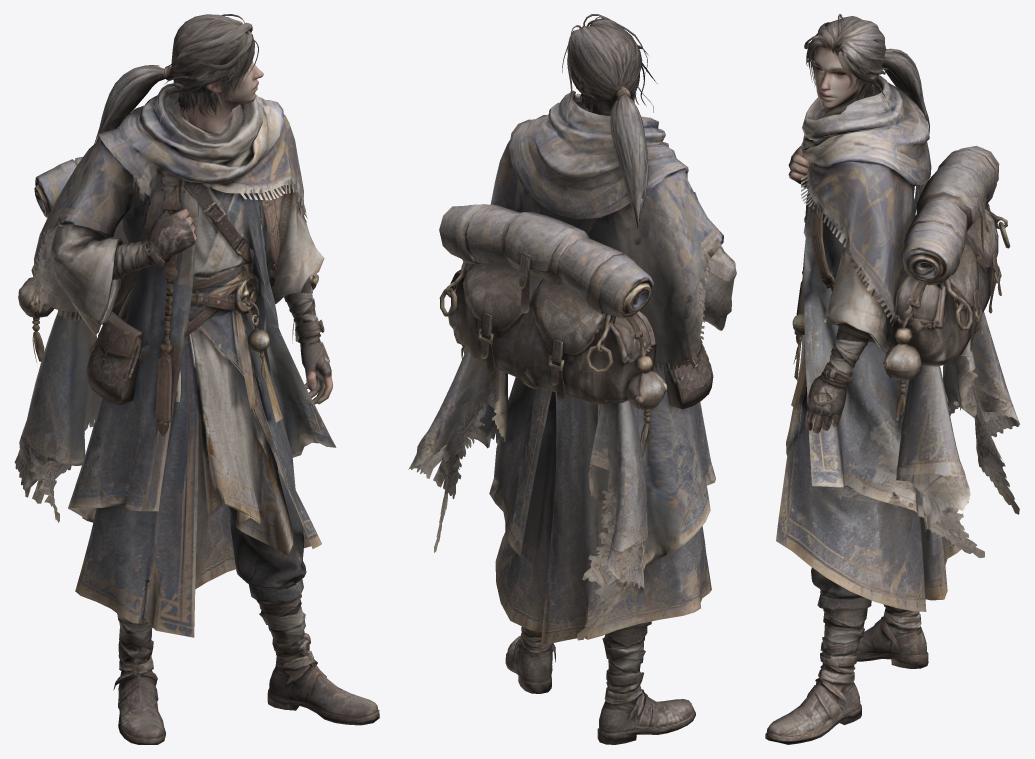
File: dawn-cheng-lod0.glb
The picture shows the model from 3 angles, left to right: view 1: azimuth 30°, elevation 25°; view 2: azimuth 150°, elevation 25°; view 3: azimuth 270°, elevation 25°; orthographic projection. The views are drawn at different scales.
Parts seen in each view (by area): view 1: dawn-cheng_SourceMesh; view 2: dawn-cheng_SourceMesh; view 3: dawn-cheng_SourceMesh.
Boxes of the visible parts, x1,y1,x2,y2 form: dawn-cheng_SourceMesh: (14, 14, 379, 744); dawn-cheng_SourceMesh: (408, 14, 736, 744); dawn-cheng_SourceMesh: (765, 14, 1020, 744).
Size of the model in its own units: 0.7712 by 1.8 by 0.6217.
Materials: 1 (1 with a texture image).
